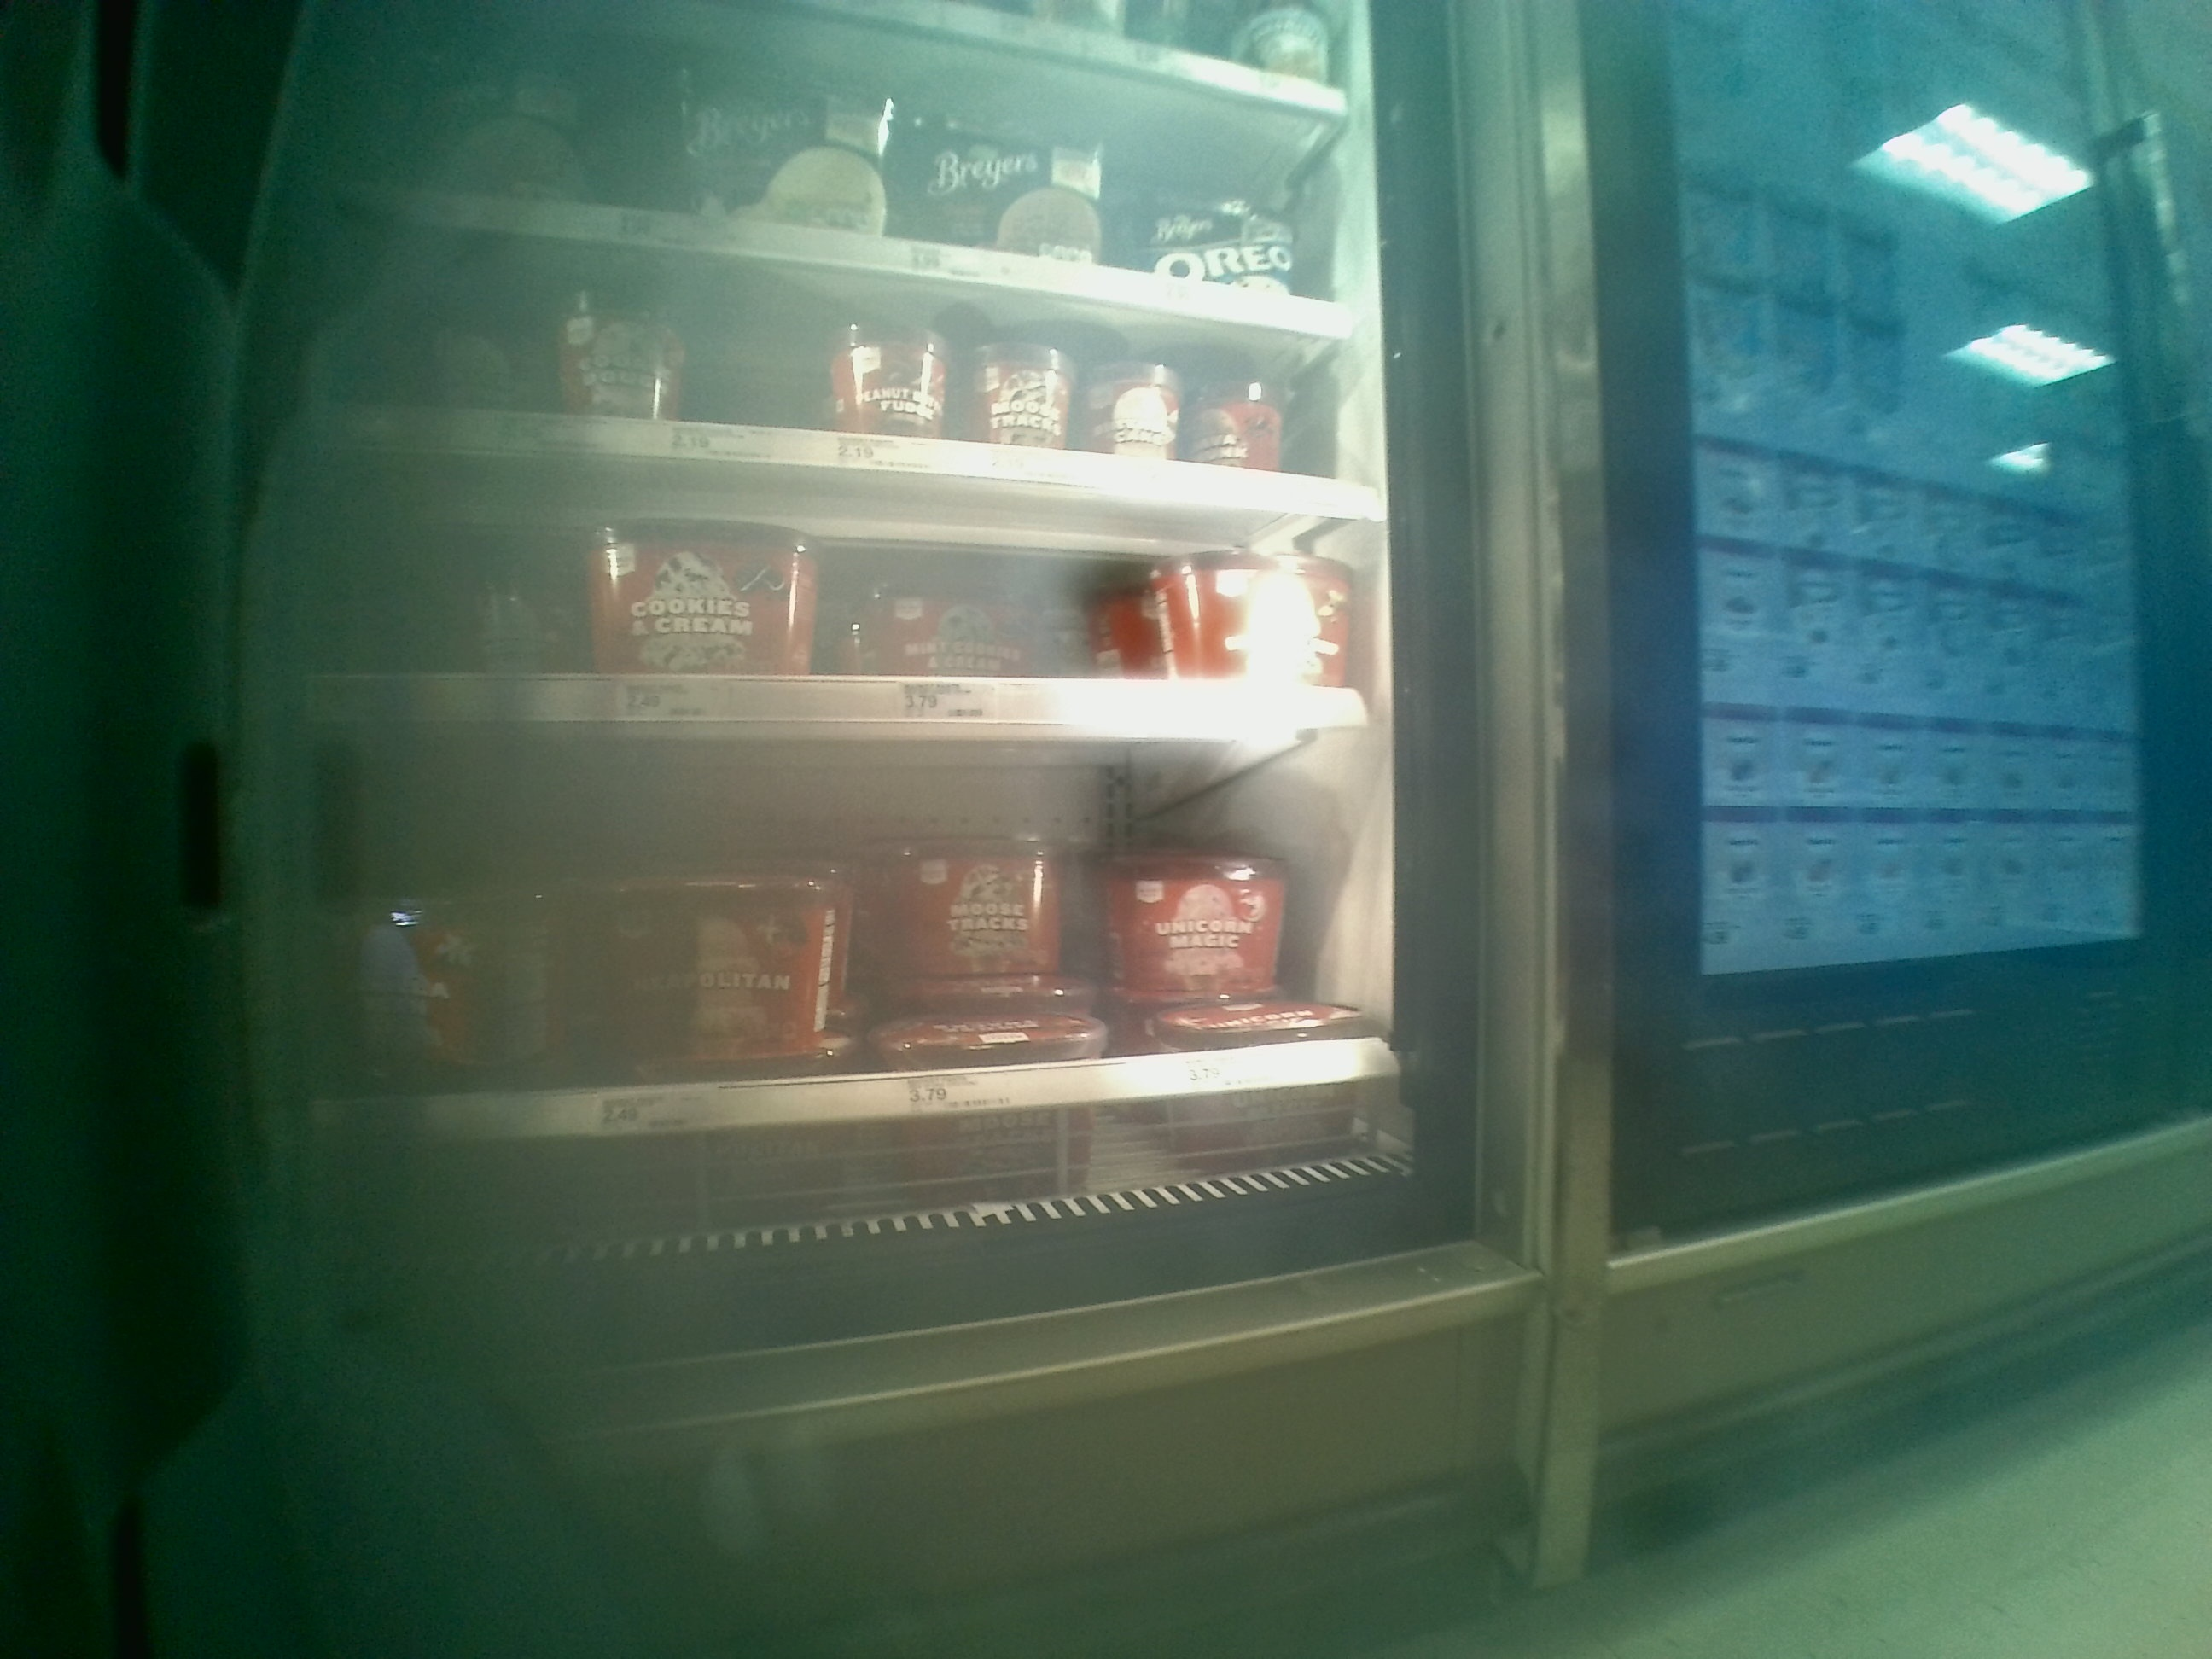shelf: (319, 737, 1428, 1229), (320, 441, 1390, 739), (341, 227, 1385, 526)
